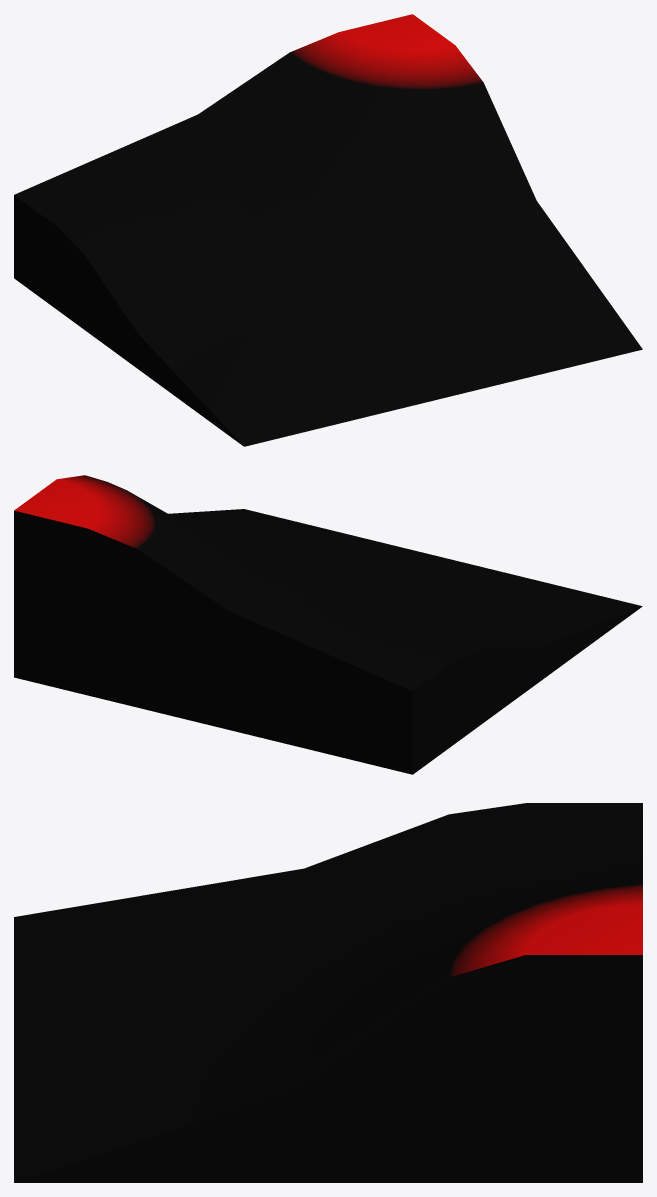
Rendered from PlatformSlopeDecline.fbx.
The picture shows the model from 3 angles, top to bottom: view 1: azimuth 30°, elevation 25°; view 2: azimuth 150°, elevation 25°; view 3: azimuth 270°, elevation 25°; orthographic projection. The views are drawn at different scales.
Visible parts, largest first — view 1: PlatformSlopeDecline; view 2: PlatformSlopeDecline; view 3: PlatformSlopeDecline.
Part boxes in pixels (x1,y1,x2,y2): PlatformSlopeDecline: (14,14,642,446); PlatformSlopeDecline: (14,475,642,774); PlatformSlopeDecline: (14,803,642,1182).
Bounding box in the file's own units: 5 × 2 × 5.
